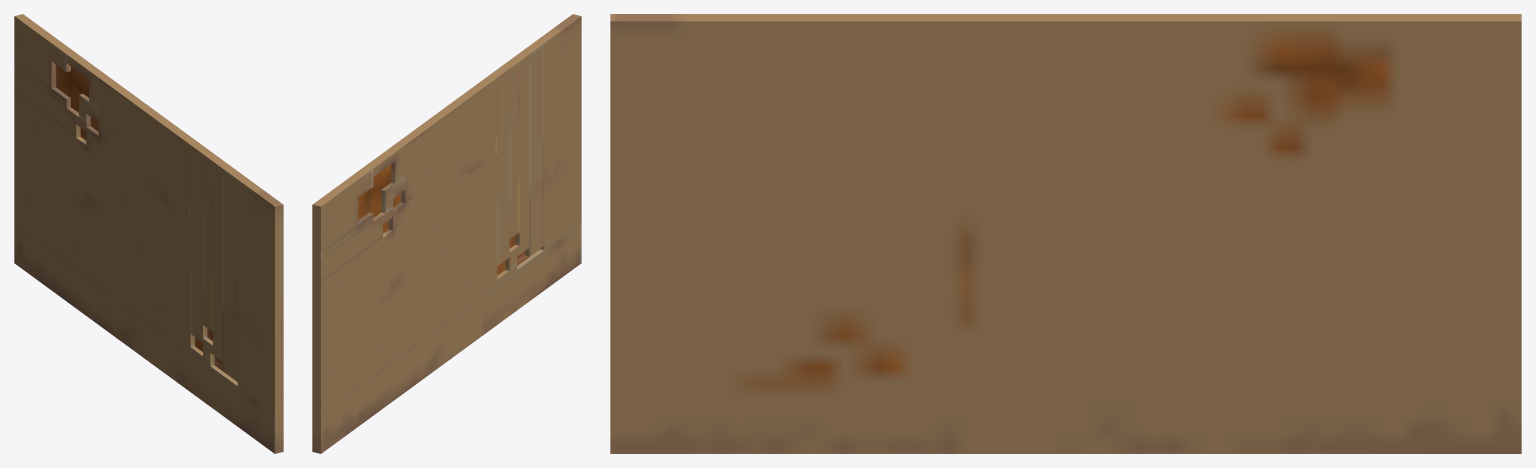
File: WallBackMinimallyDamaged_B_00.fbx
3 views of the same model, side by side, from view 1: azimuth 30°, elevation 25°; view 2: azimuth 150°, elevation 25°; view 3: azimuth 270°, elevation 25° (orthographic). The views are drawn at different scales.
Visible parts, largest first — view 1: WallBackMinimallyDamaged_B_00; view 2: WallBackMinimallyDamaged_B_00; view 3: WallBackMinimallyDamaged_B_00.
Part boxes in pixels (x1=…): WallBackMinimallyDamaged_B_00: x1=14, y1=14, x2=283, y2=453; WallBackMinimallyDamaged_B_00: x1=312, y1=14, x2=581, y2=453; WallBackMinimallyDamaged_B_00: x1=610, y1=14, x2=1521, y2=453.
Bounding box in the file's own units: 10 × 525 × 275.
Materials: 1 (1 with a texture image).
